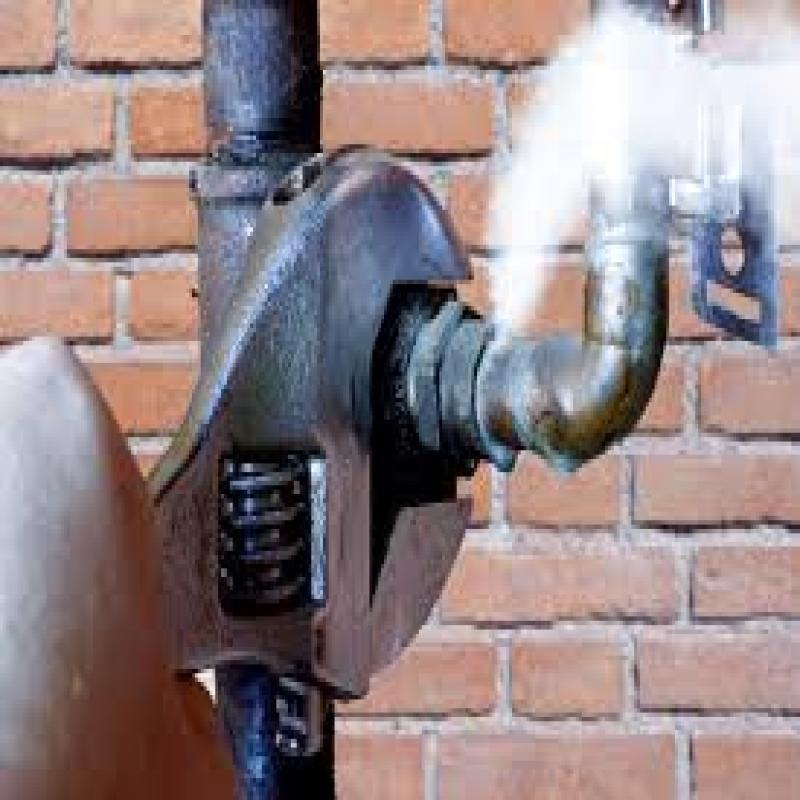Fracture: (428, 237, 643, 460)
